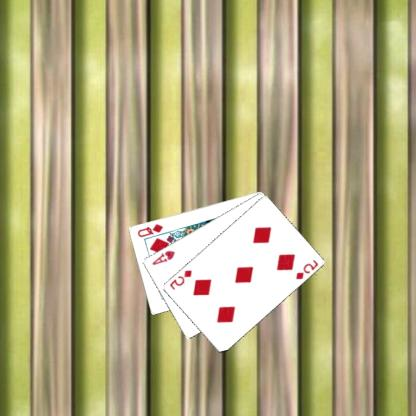5D: (294, 257, 321, 281), (168, 268, 194, 292)
AH: (151, 248, 178, 266)
QD: (136, 221, 166, 238)
